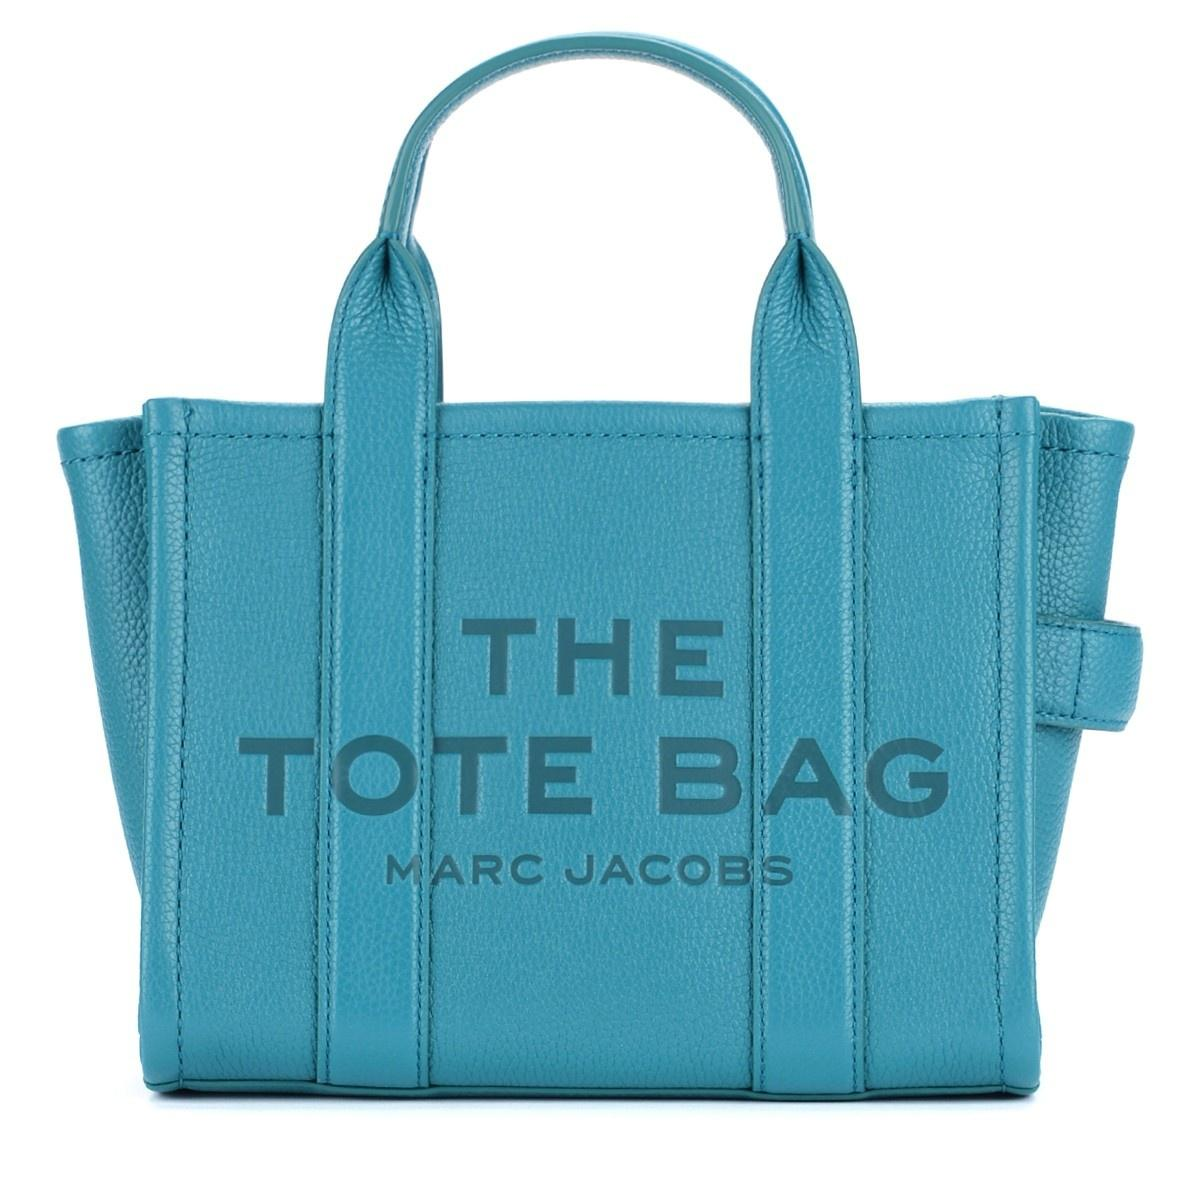MARC-JACOBS: (386, 852, 793, 887)
